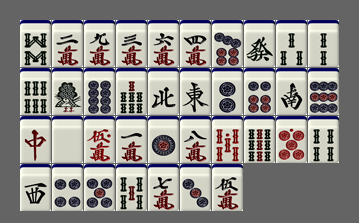0m: (84, 116, 115, 163)
0p: (276, 116, 307, 163)
0s: (212, 116, 243, 163)
1m: (116, 116, 147, 163)
1p: (148, 116, 179, 163)
1s: (52, 68, 83, 115)
1z: (180, 68, 211, 115)
2m: (52, 20, 83, 67)
2p: (212, 68, 243, 115)
2s: (308, 20, 339, 67)
2z: (276, 68, 307, 115)
3m: (116, 20, 147, 67)
3p: (180, 164, 211, 211)
3s: (276, 20, 307, 67)
3z: (20, 164, 51, 211)
4m: (180, 20, 211, 67)
4p: (52, 164, 83, 211)
4s: (308, 116, 339, 163)
4z: (148, 68, 179, 115)
5m: (212, 164, 243, 211)
5p: (84, 164, 115, 211)
5s: (116, 164, 147, 211)
5z: (52, 116, 83, 163)
6m: (148, 20, 179, 67)
6p: (244, 68, 275, 115)
6s: (20, 68, 51, 115)
6z: (244, 20, 275, 67)
7m: (148, 164, 179, 211)
7p: (212, 20, 243, 67)
7s: (116, 68, 147, 115)
7z: (20, 116, 51, 163)
8m: (180, 116, 211, 163)
8p: (84, 68, 115, 115)
8s: (20, 20, 51, 67)
9m: (84, 20, 115, 67)
9p: (308, 68, 339, 115)
9s: (244, 116, 275, 163)
